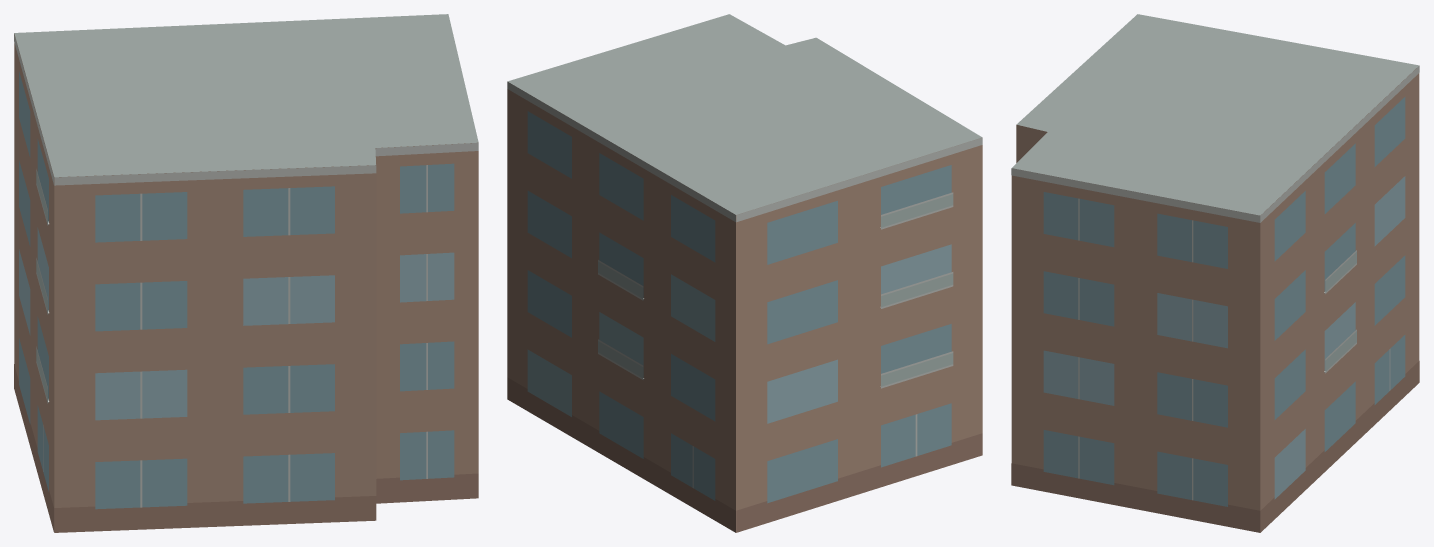
Rendered from survey-upis-32531578.glb.
The picture shows the model from 3 angles, left to right: view 1: azimuth 30°, elevation 25°; view 2: azimuth 150°, elevation 25°; view 3: azimuth 270°, elevation 25°; orthographic projection. The views are drawn at different scales.
Visible parts, largest first — view 1: survey-upis-32531578.tmp; view 2: survey-upis-32531578.tmp; view 3: survey-upis-32531578.tmp.
Boxes of the visible parts, left/top/right/bottom form: survey-upis-32531578.tmp: left=14, top=14, right=478, bottom=532; survey-upis-32531578.tmp: left=507, top=14, right=982, bottom=532; survey-upis-32531578.tmp: left=1011, top=14, right=1419, bottom=532.
Bounding box in the file's own units: 14.32 × 10.5 × 12.24.
